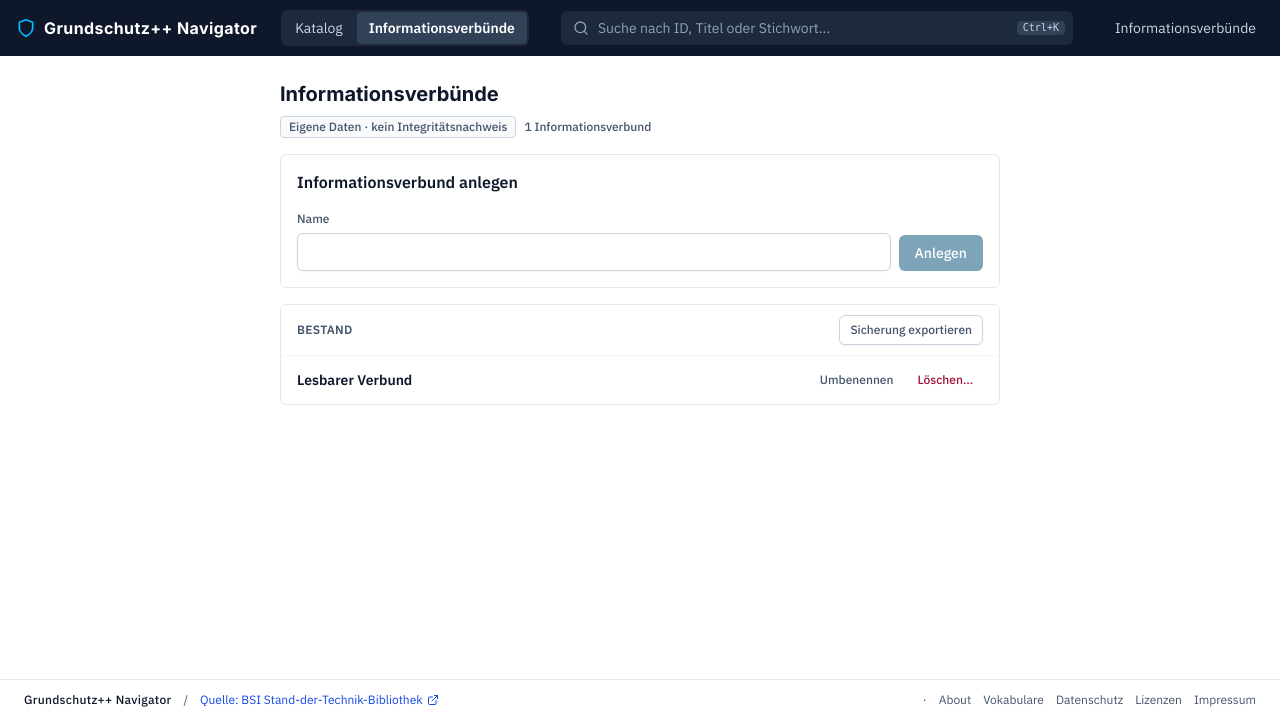
Test: Speichermeldungen › Multi-Tab-Konflikt mit „Neu laden“, das den Stand neu liest
Click the button "Umbenennen" at coordinates (857, 380), box x1=810 y1=366 x2=904 y2=394
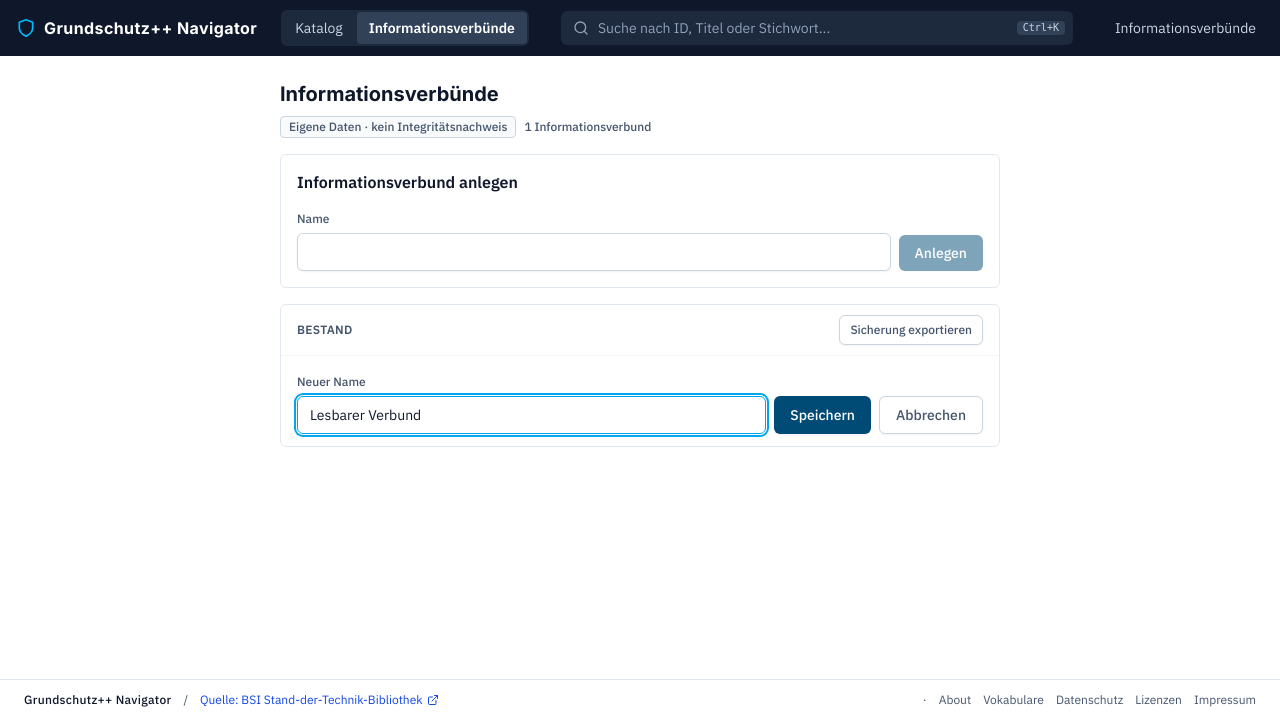
Replace the text in the field labelled "Neuer Name" with "Anders" at coordinates (532, 415), box x1=297 y1=396 x2=766 y2=434
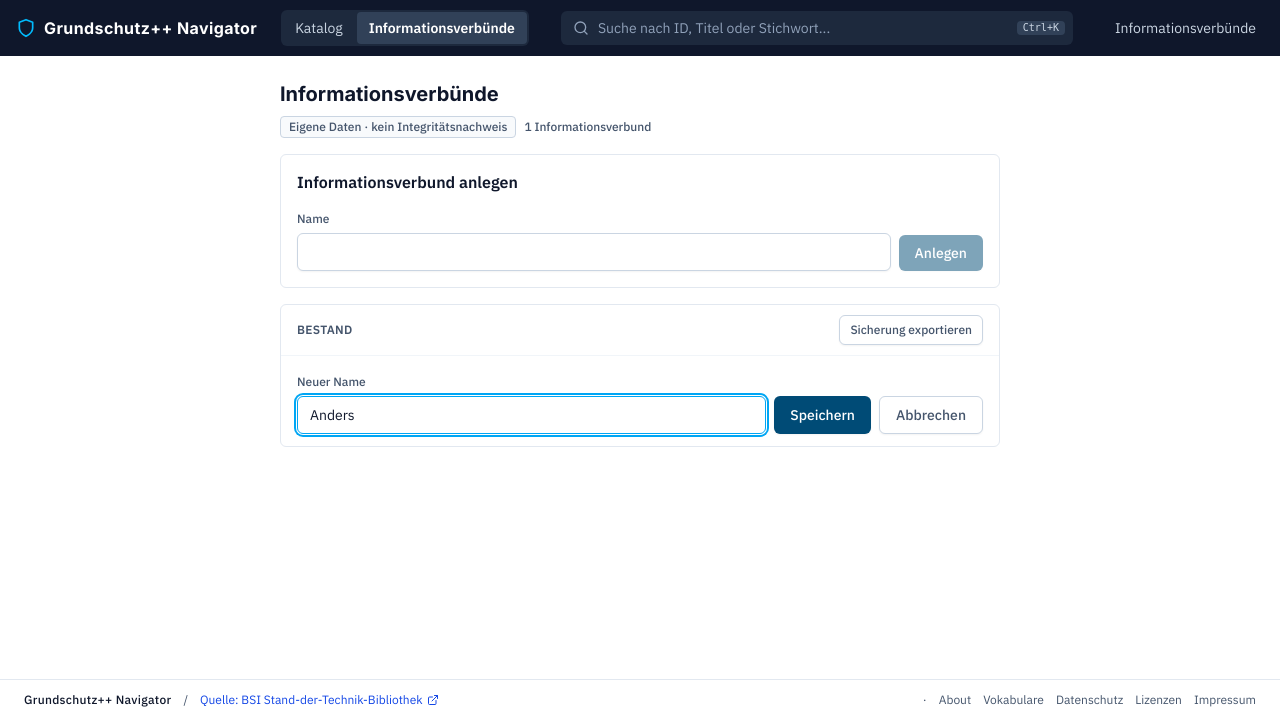
Click the button "Speichern" at coordinates (823, 415), box x1=774 y1=396 x2=871 y2=434
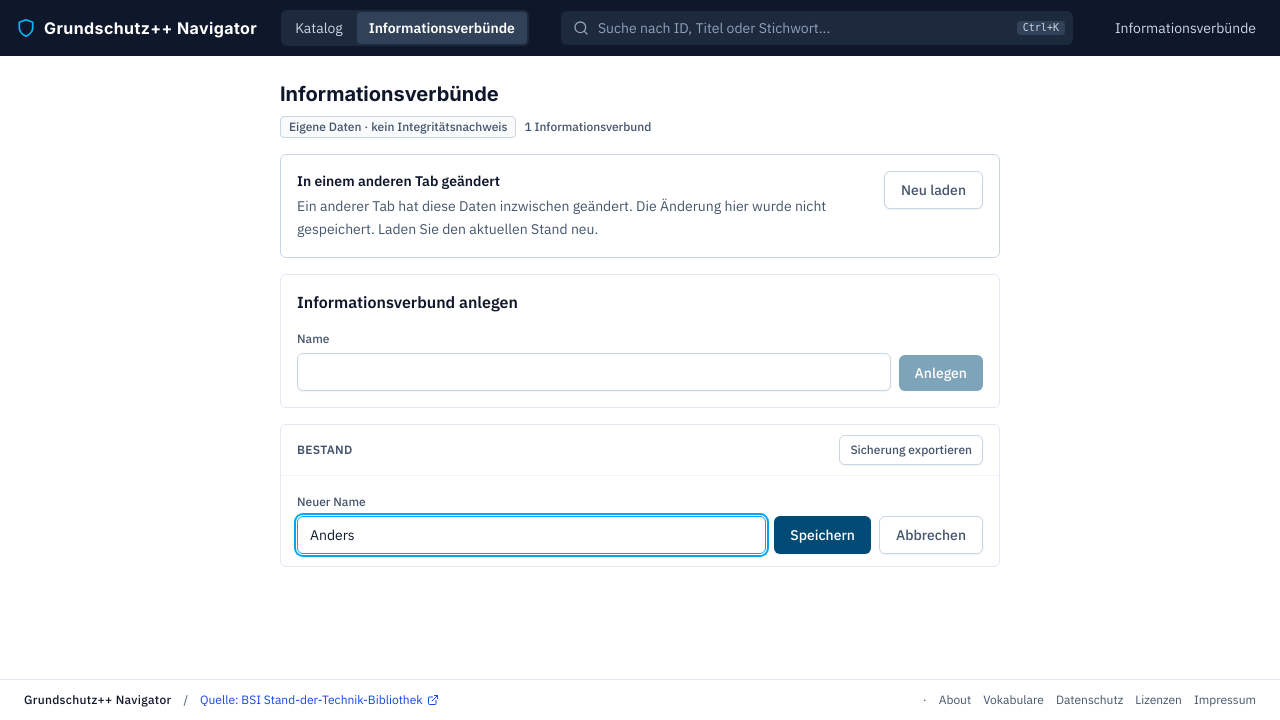
Click the button "Neu laden" at coordinates (934, 190), box x1=884 y1=171 x2=983 y2=209
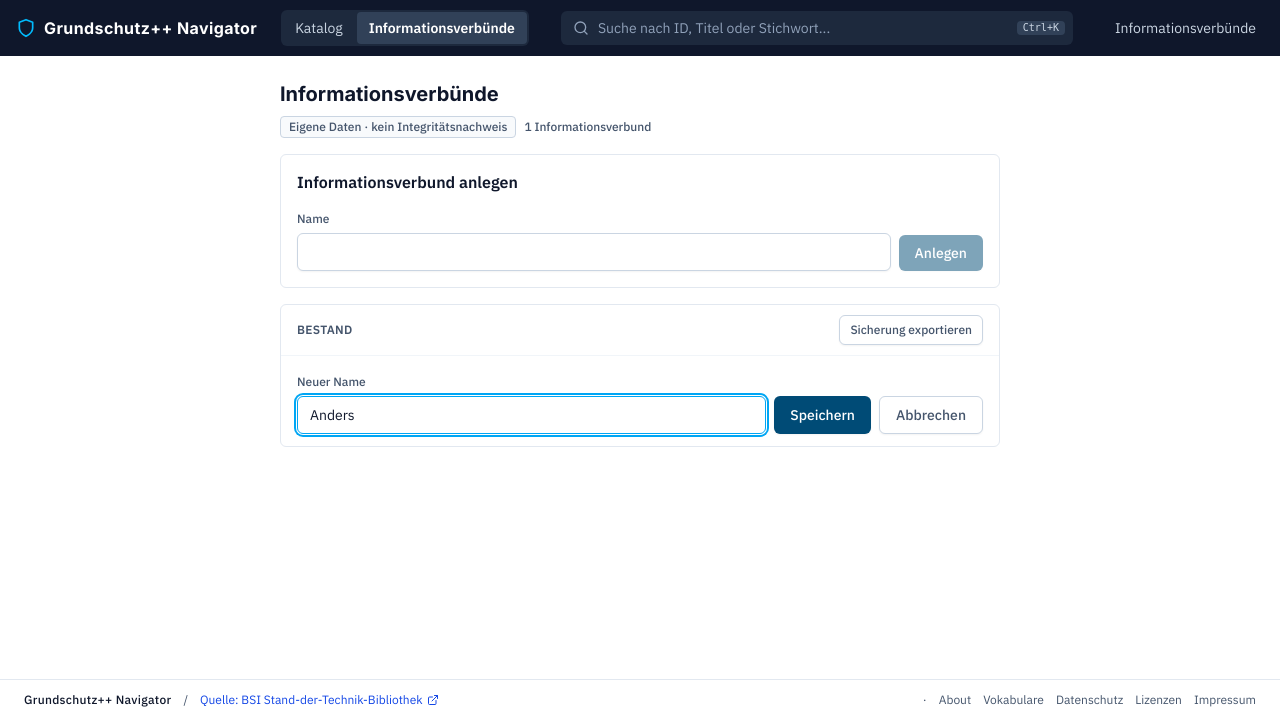
Expected: the text "In einem anderen Tab geändert" is gone
